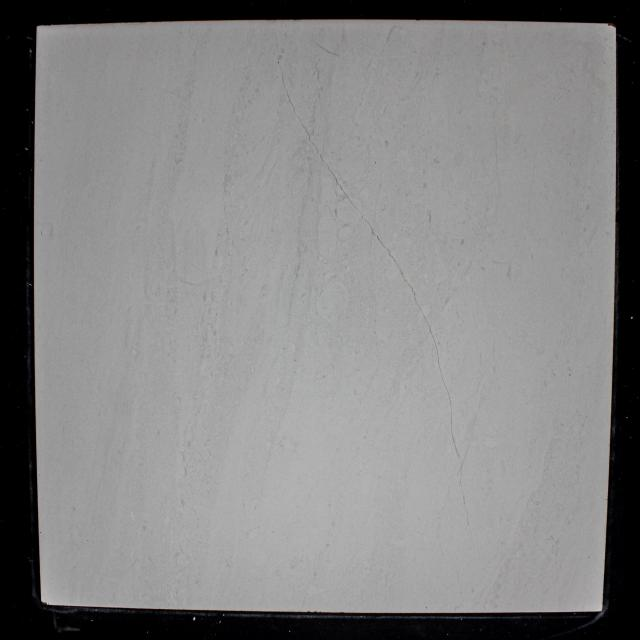edge-chipping: (607, 22, 617, 28), (41, 600, 48, 606)
line: (302, 125, 370, 224), (370, 226, 420, 312), (422, 312, 454, 433), (452, 434, 471, 525), (280, 70, 302, 122)
